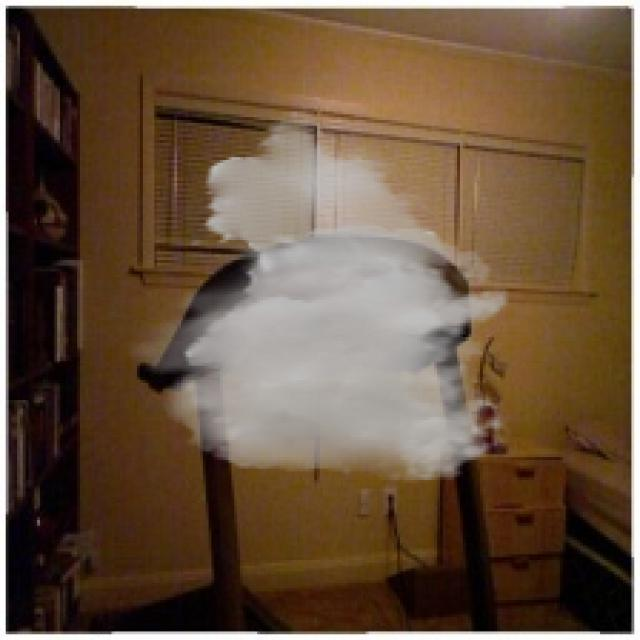smoke: (120, 108, 511, 483)
